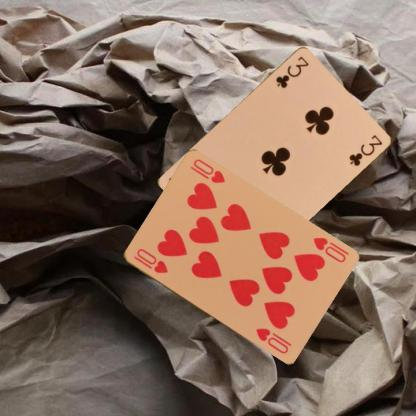10h: (130, 246, 168, 275), (310, 235, 346, 264)
3c: (273, 53, 310, 90)
